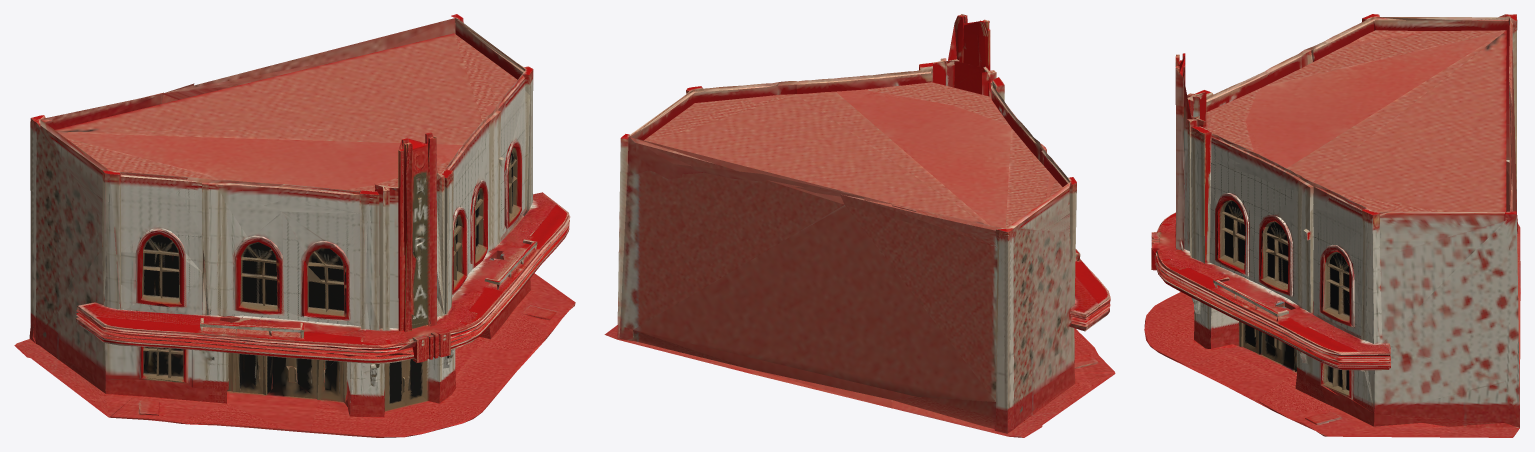
Rendered from cinema.glb.
3 views of the same model, side by side, from view 1: azimuth 30°, elevation 25°; view 2: azimuth 150°, elevation 25°; view 3: azimuth 270°, elevation 25° (orthographic). The views are drawn at different scales.
Size of the model in its own units: 1.9 by 1.09 by 1.38.
Materials: 1 (1 with a texture image).
